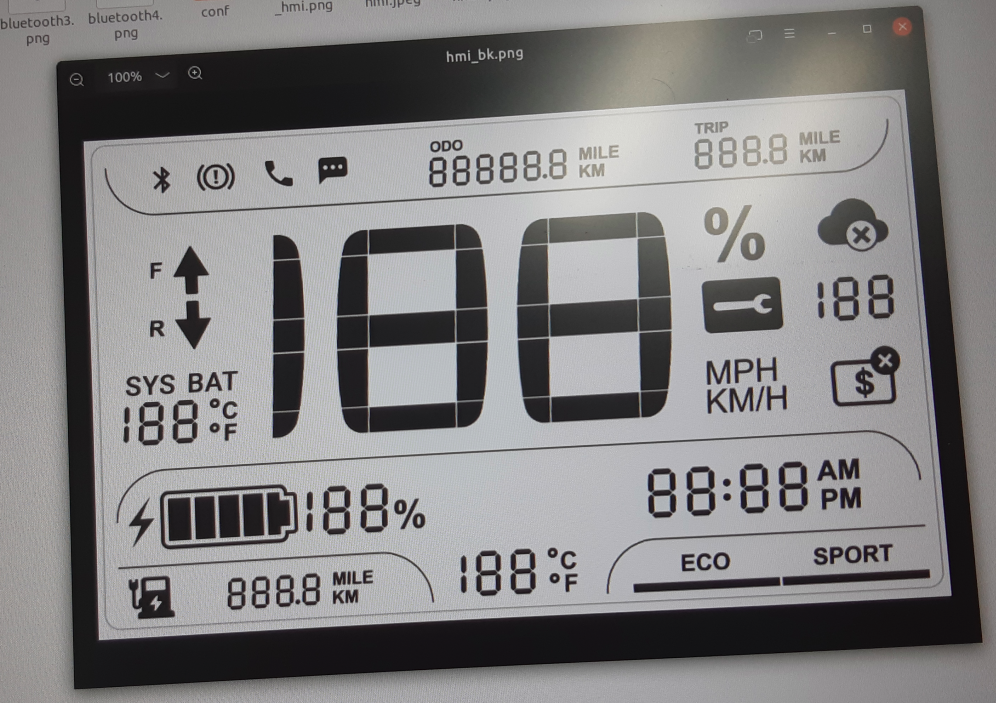bluetooth_on: (147, 164, 174, 196)
braking_on: (195, 161, 236, 192)
calling_on: (261, 157, 298, 190)
connection_lost: (815, 196, 891, 254)
error_code: (696, 273, 789, 337)
low_battery: (125, 572, 182, 623)
sms_on: (313, 152, 352, 187)
vin_id: (827, 342, 904, 411)
